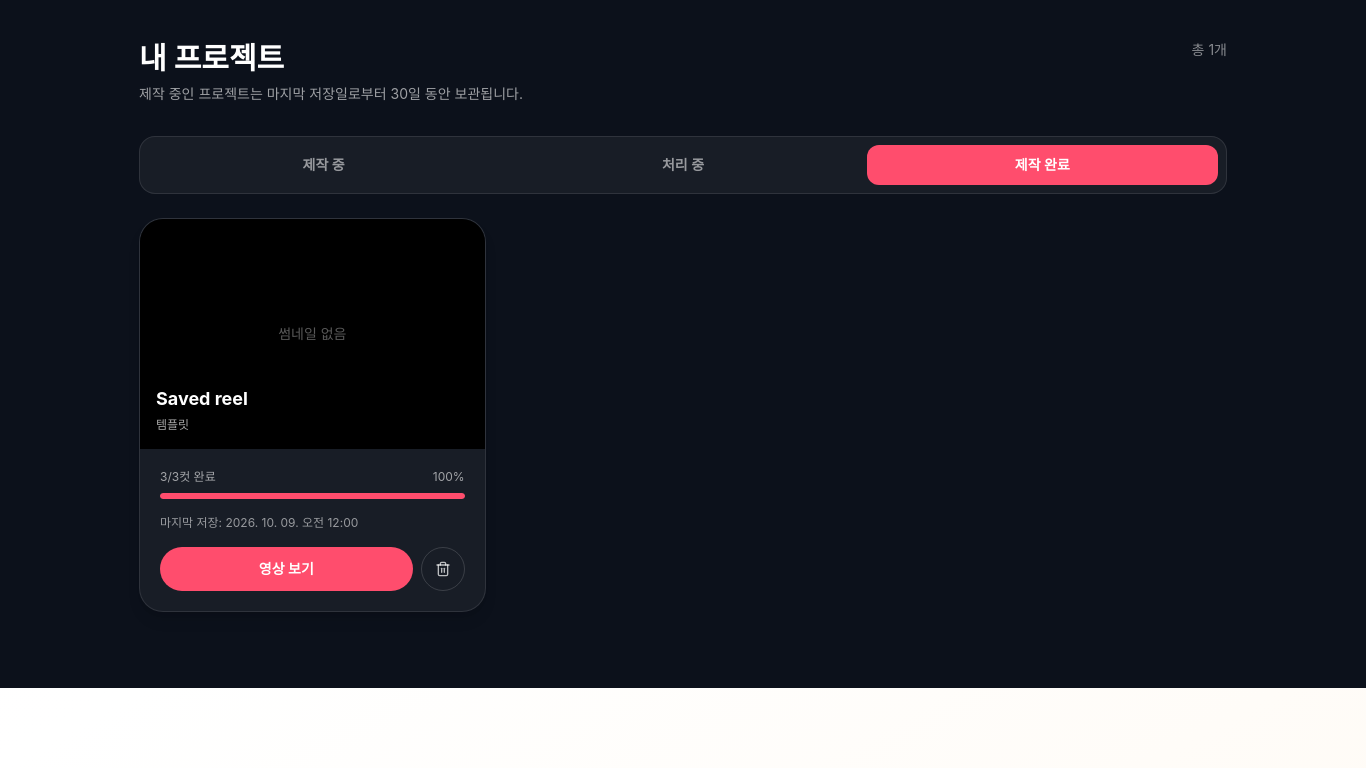
Test: deletes a completed project through the individual delete API
This screenshot has width=1366, height=768.
Click the button named "프로젝트 삭제" at {"x": 443, "y": 569}, box [421,547,465,591]
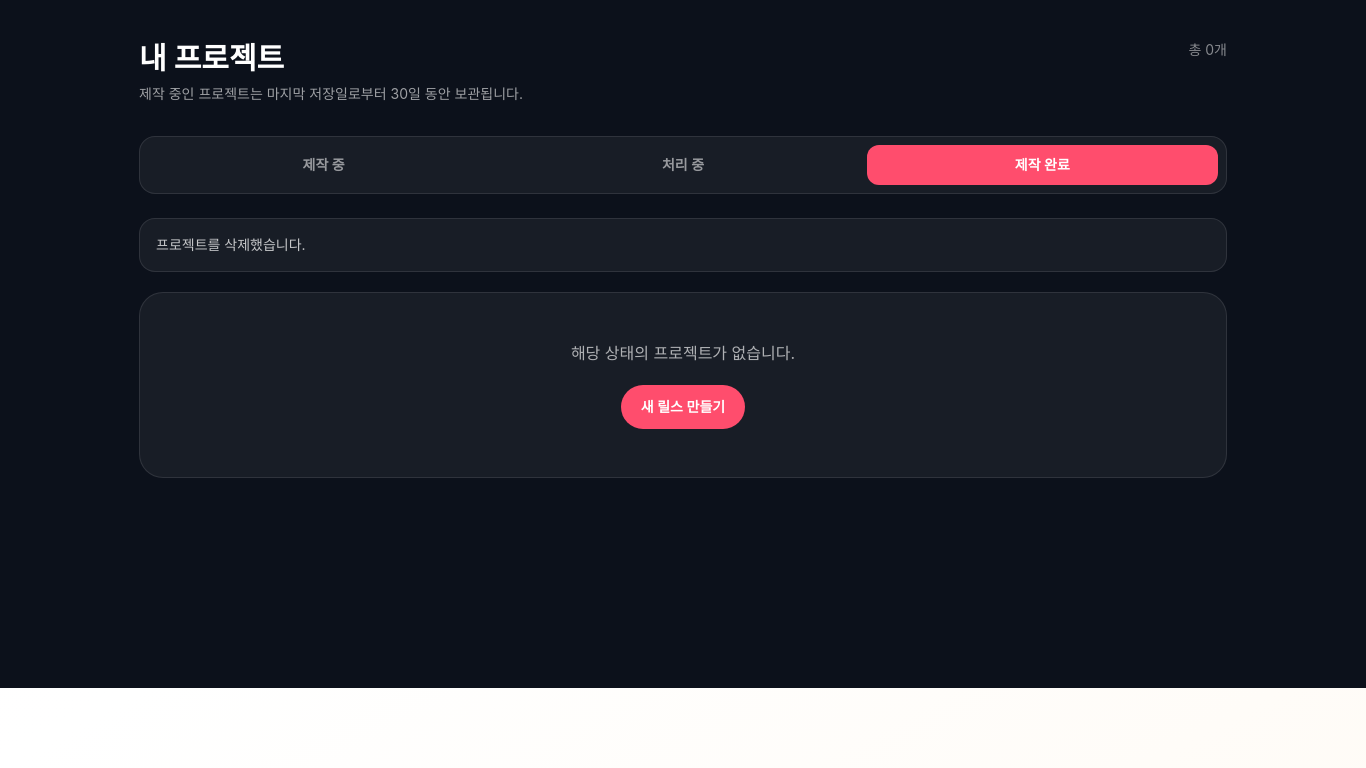
expect the text "프로젝트를 삭제했습니다." is shown: met, box [139,218,1227,272]
expect the heading "Saved reel" is gone: met
